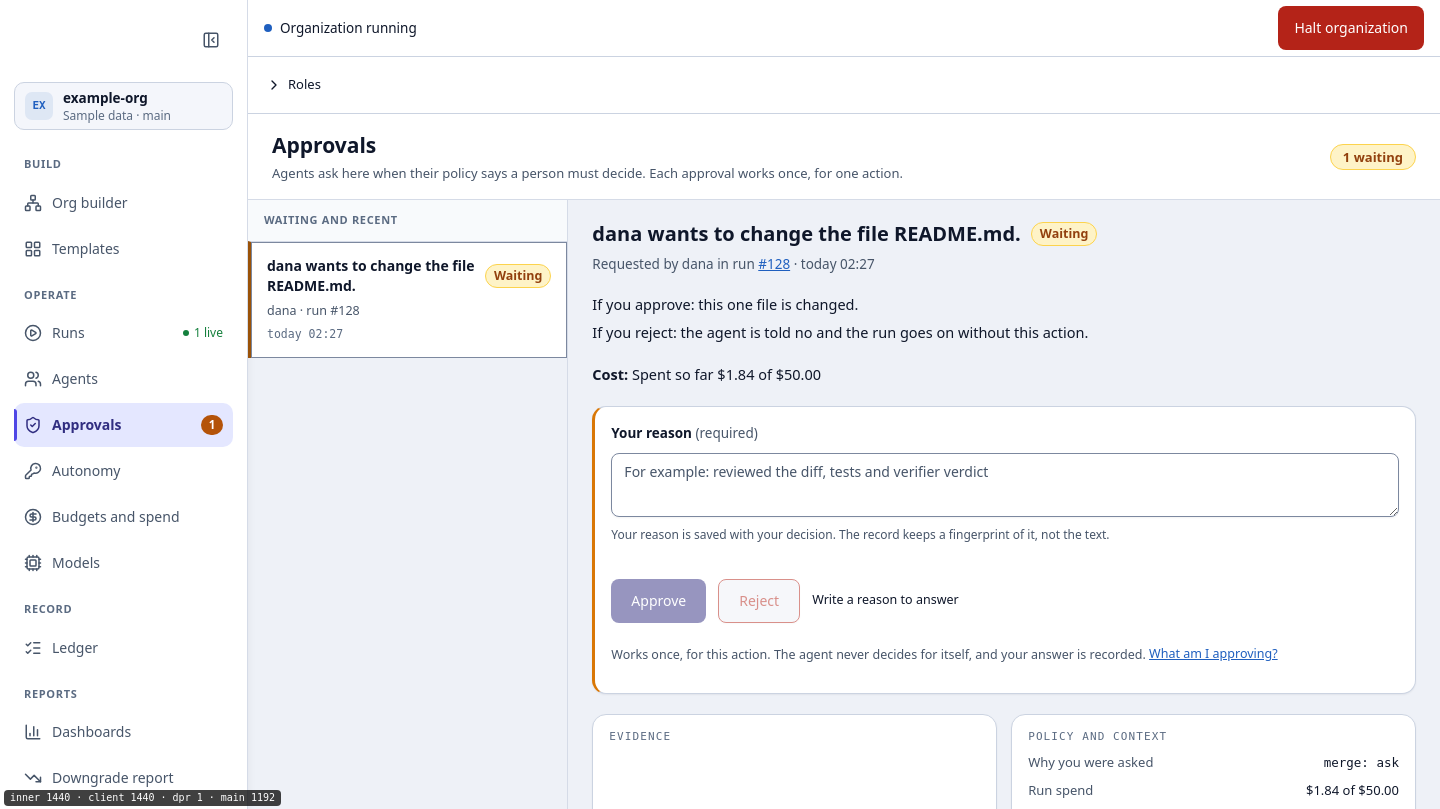
solo approve: the confirm dialog (SA-17) › a kind that is not high-risk needs no typed word: the dialog's confirm sends one approve with the digest
Type "read the diff" into the text box labelled "Your reason (required)" at (1005, 485), box [611,453,1399,517]
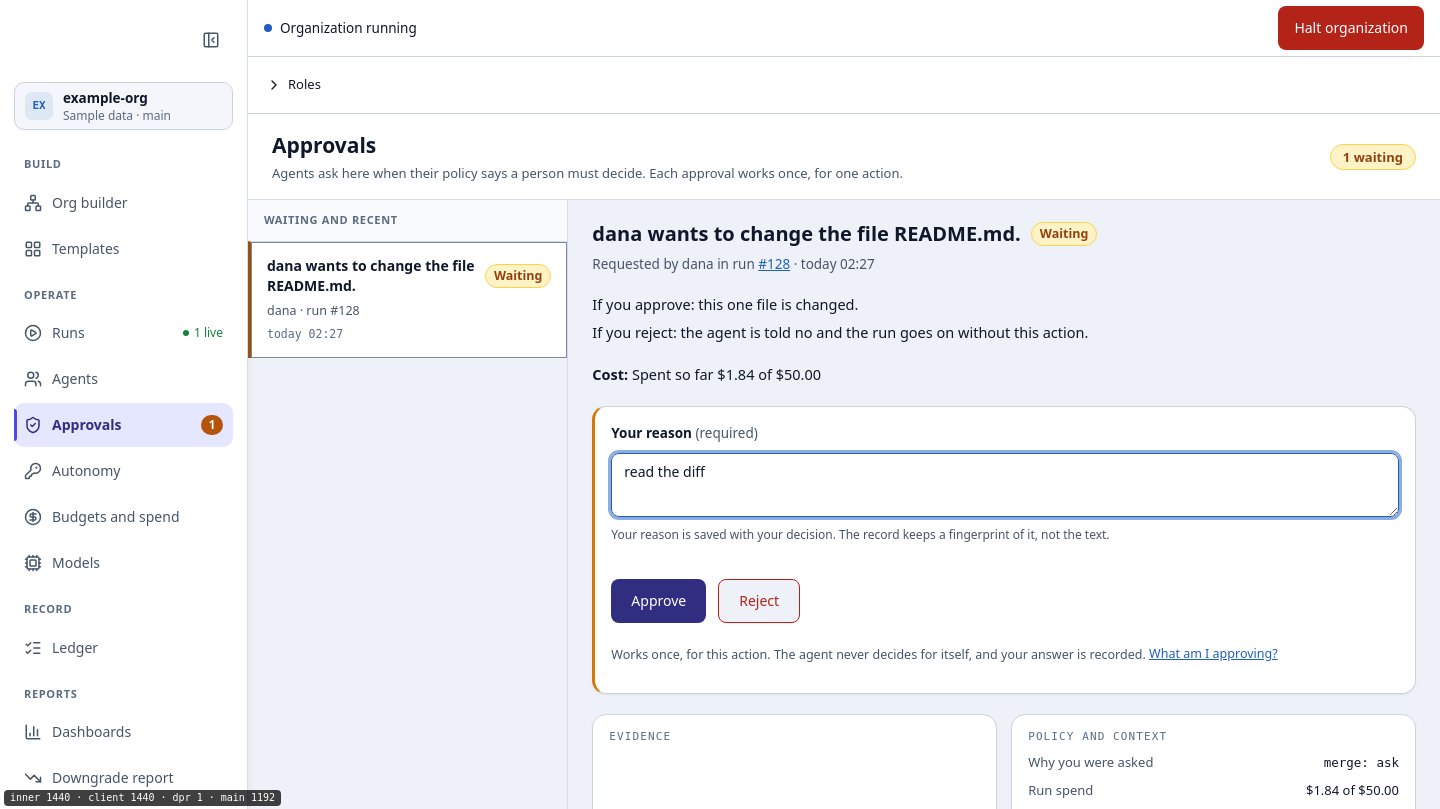
Click the button "Approve" at (659, 601), box [611,579,706,623]
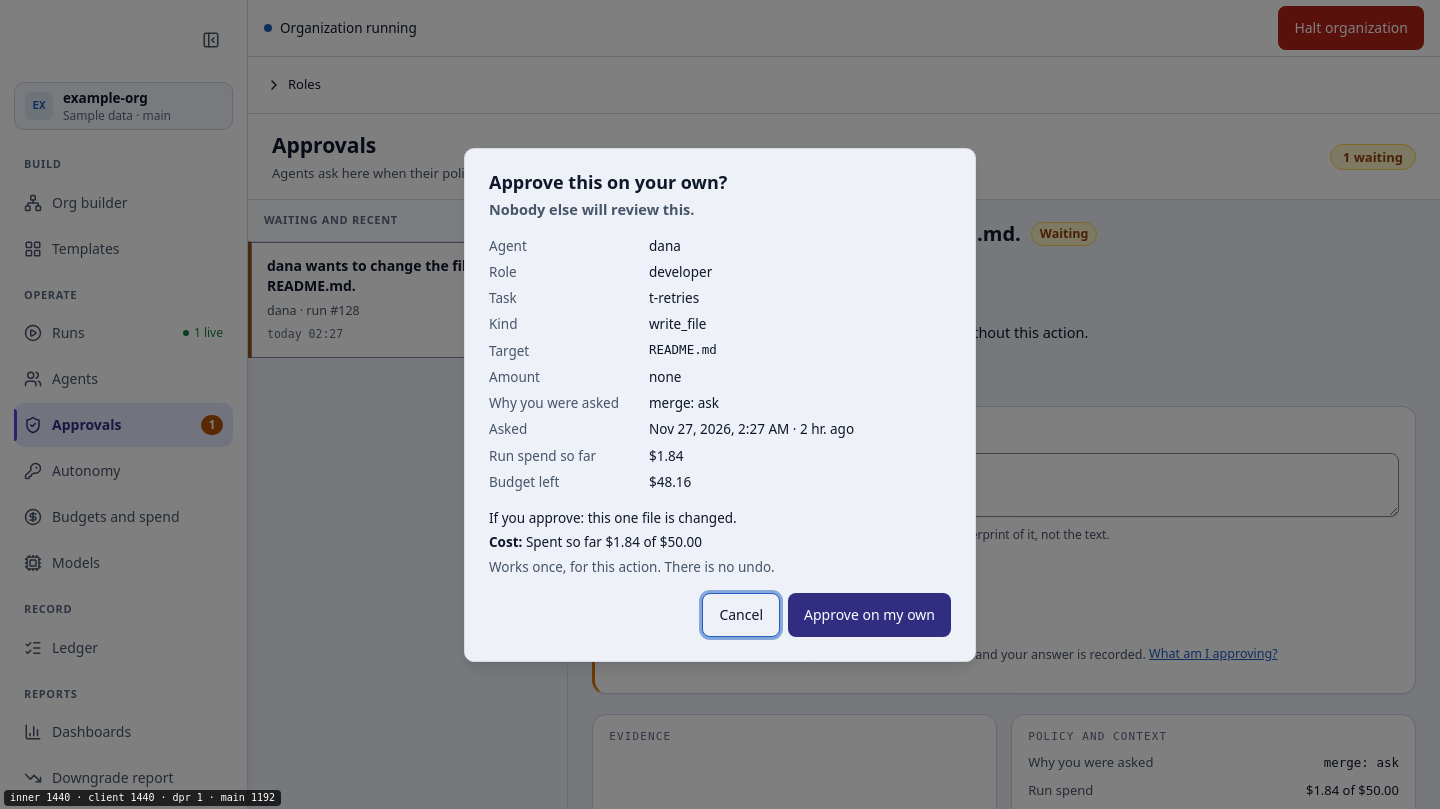
Click the button "Approve on my own" at (870, 615), box [788,593,951,637]
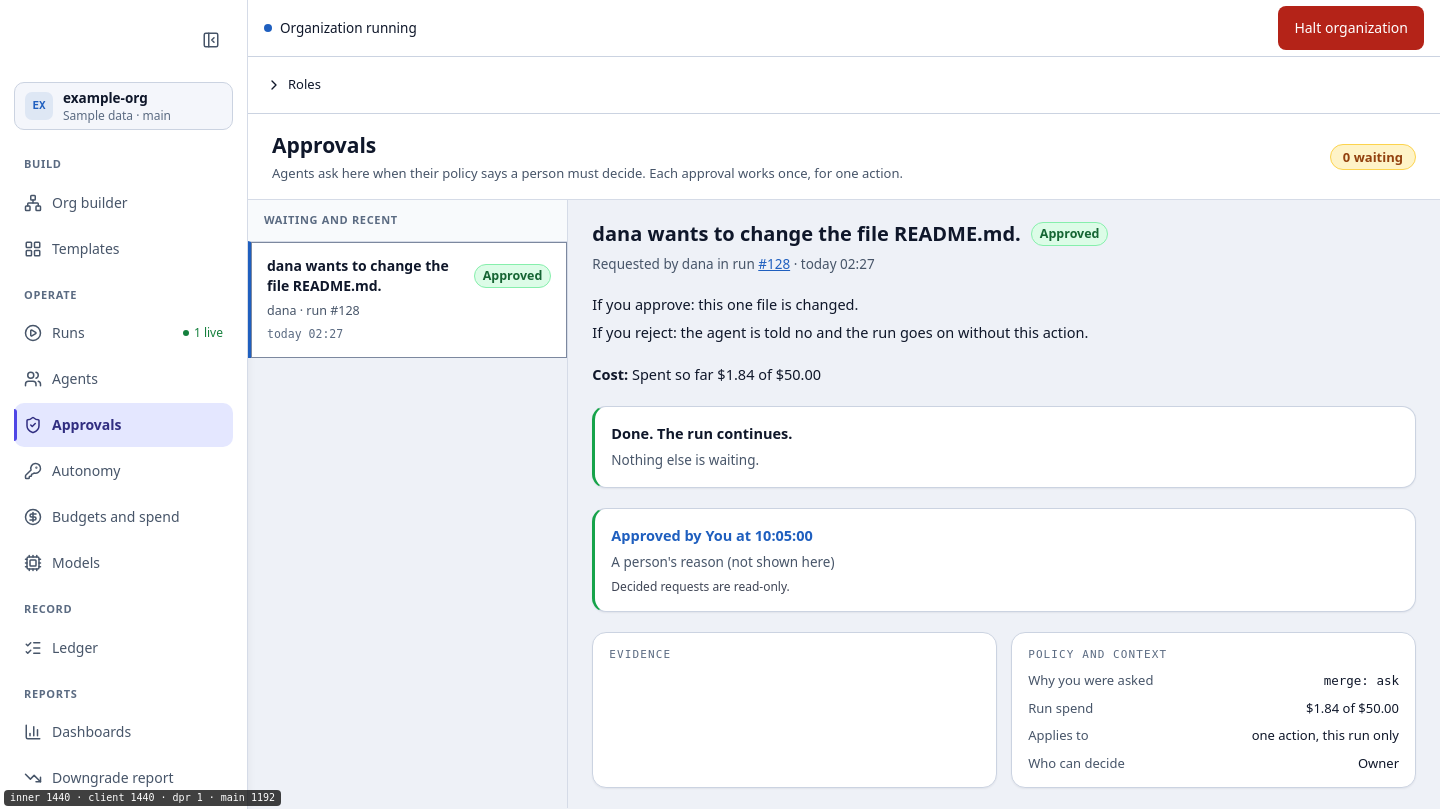
Check: the text "Done. The run continues." is shown, box [611,422,792,442]
Check: the dialog is gone
